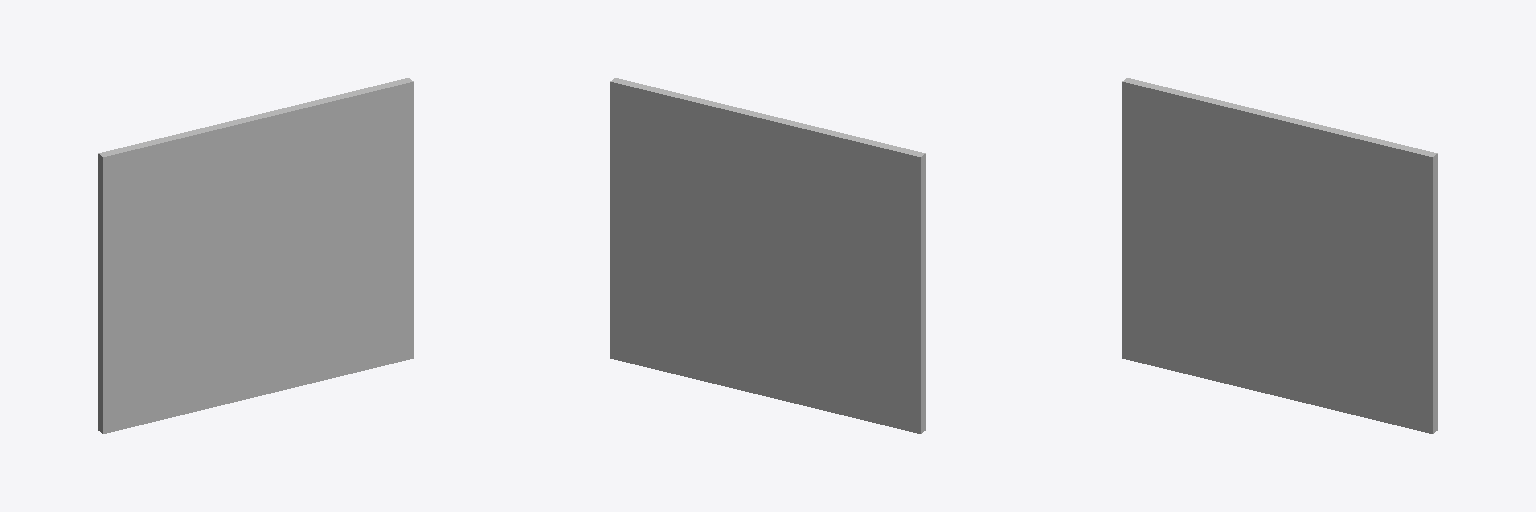
Rendered from robot station door.obj.
3 renders of one model, left to right at view 1: azimuth 30°, elevation 25°; view 2: azimuth 150°, elevation 25°; view 3: azimuth 330°, elevation 25°, orthographic.
Parts seen in each view (by area): view 1: object 1; view 2: object 1; view 3: object 1.
Boxes of the visible parts, box(x1,y1,x2,y2) form: object 1: box(98, 78, 413, 433); object 1: box(610, 78, 925, 433); object 1: box(1122, 78, 1437, 433).
Bounding box in the file's own units: 3.4 × 2.9 × 0.1.